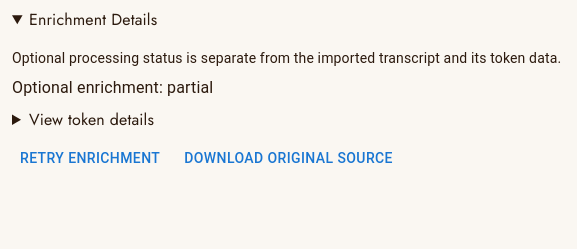
Test: shows returned/thrown retry errors without an unhandled rejection (throws=false)
The image size is (577, 249).
What coordinates should you click on to do the following:
click the button "Retry Enrichment"
I would click on:
 (90, 158)
Its box is [12, 140, 168, 176].
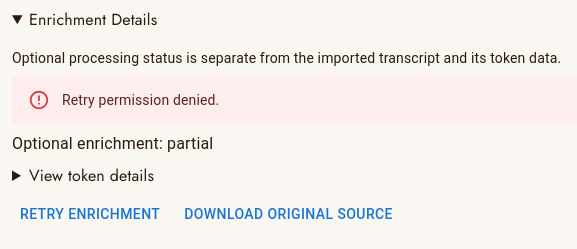
expect the button "Retry Enrichment" is enabled: met, box [12, 196, 168, 232]
expect the text "Retry permission denied." is shown: met, box [62, 92, 219, 108]
